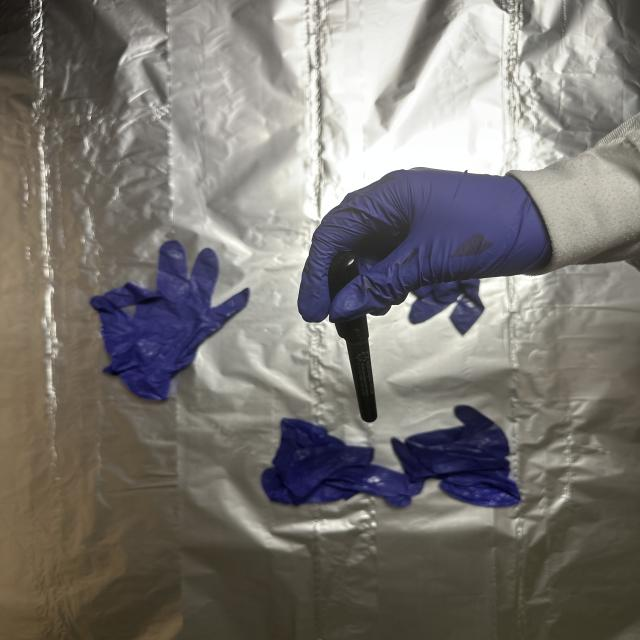gloves_contaminated: (298, 168, 550, 322)
